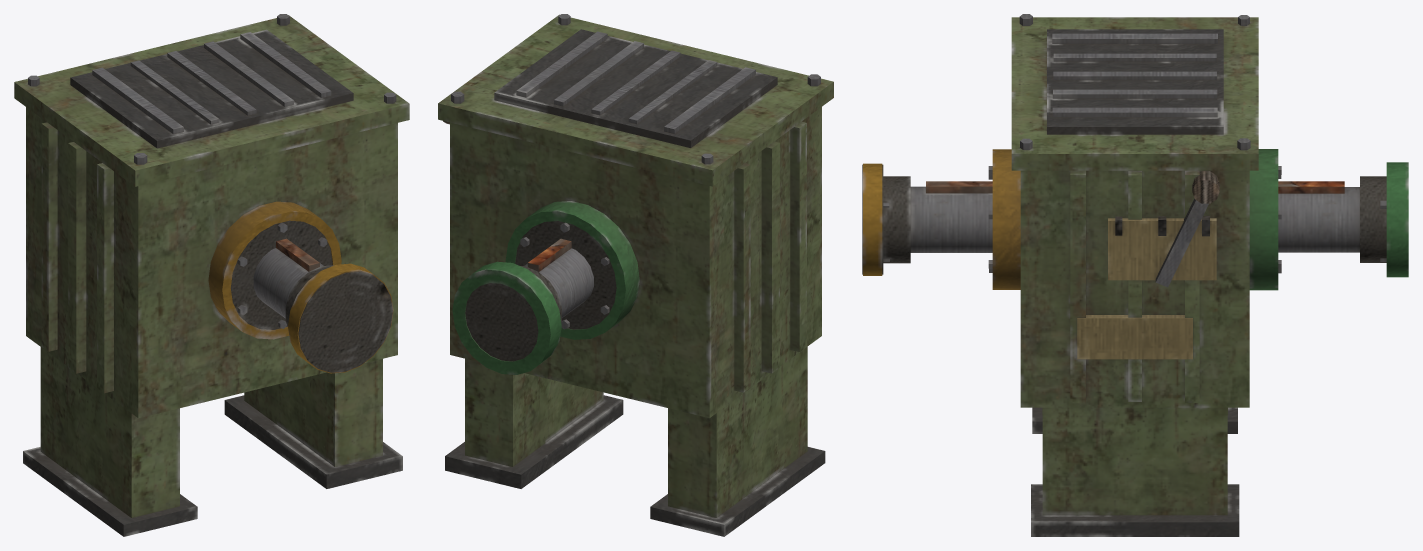
File: feSpeedBox_HD.fbx
3 renders of one model, left to right at view 1: azimuth 30°, elevation 25°; view 2: azimuth 150°, elevation 25°; view 3: azimuth 270°, elevation 25°, orthographic.
Parts seen in each view (by area): view 1: feSpeedBox_Base, FeSpinOut_SpeedBox; view 2: feSpeedBox_Base, FeSpinIn_SpeedBox; view 3: feSpeedBox_Base, FeSpinIn_SpeedBox, FeSpinOut_SpeedBox.
Part boxes in pixels (bbox=[...]): feSpeedBox_Base: bbox=[14, 14, 409, 536]; FeSpinOut_SpeedBox: bbox=[253, 238, 393, 373]; feSpeedBox_Base: bbox=[438, 14, 833, 536]; FeSpinIn_SpeedBox: bbox=[452, 238, 593, 374]; feSpeedBox_Base: bbox=[988, 14, 1281, 536]; FeSpinIn_SpeedBox: bbox=[1278, 162, 1408, 277]; FeSpinOut_SpeedBox: bbox=[862, 163, 992, 275].
Bounding box in the file's own units: 0.6324 × 0.7997 × 1.
Materials: 1 (1 with a texture image).
